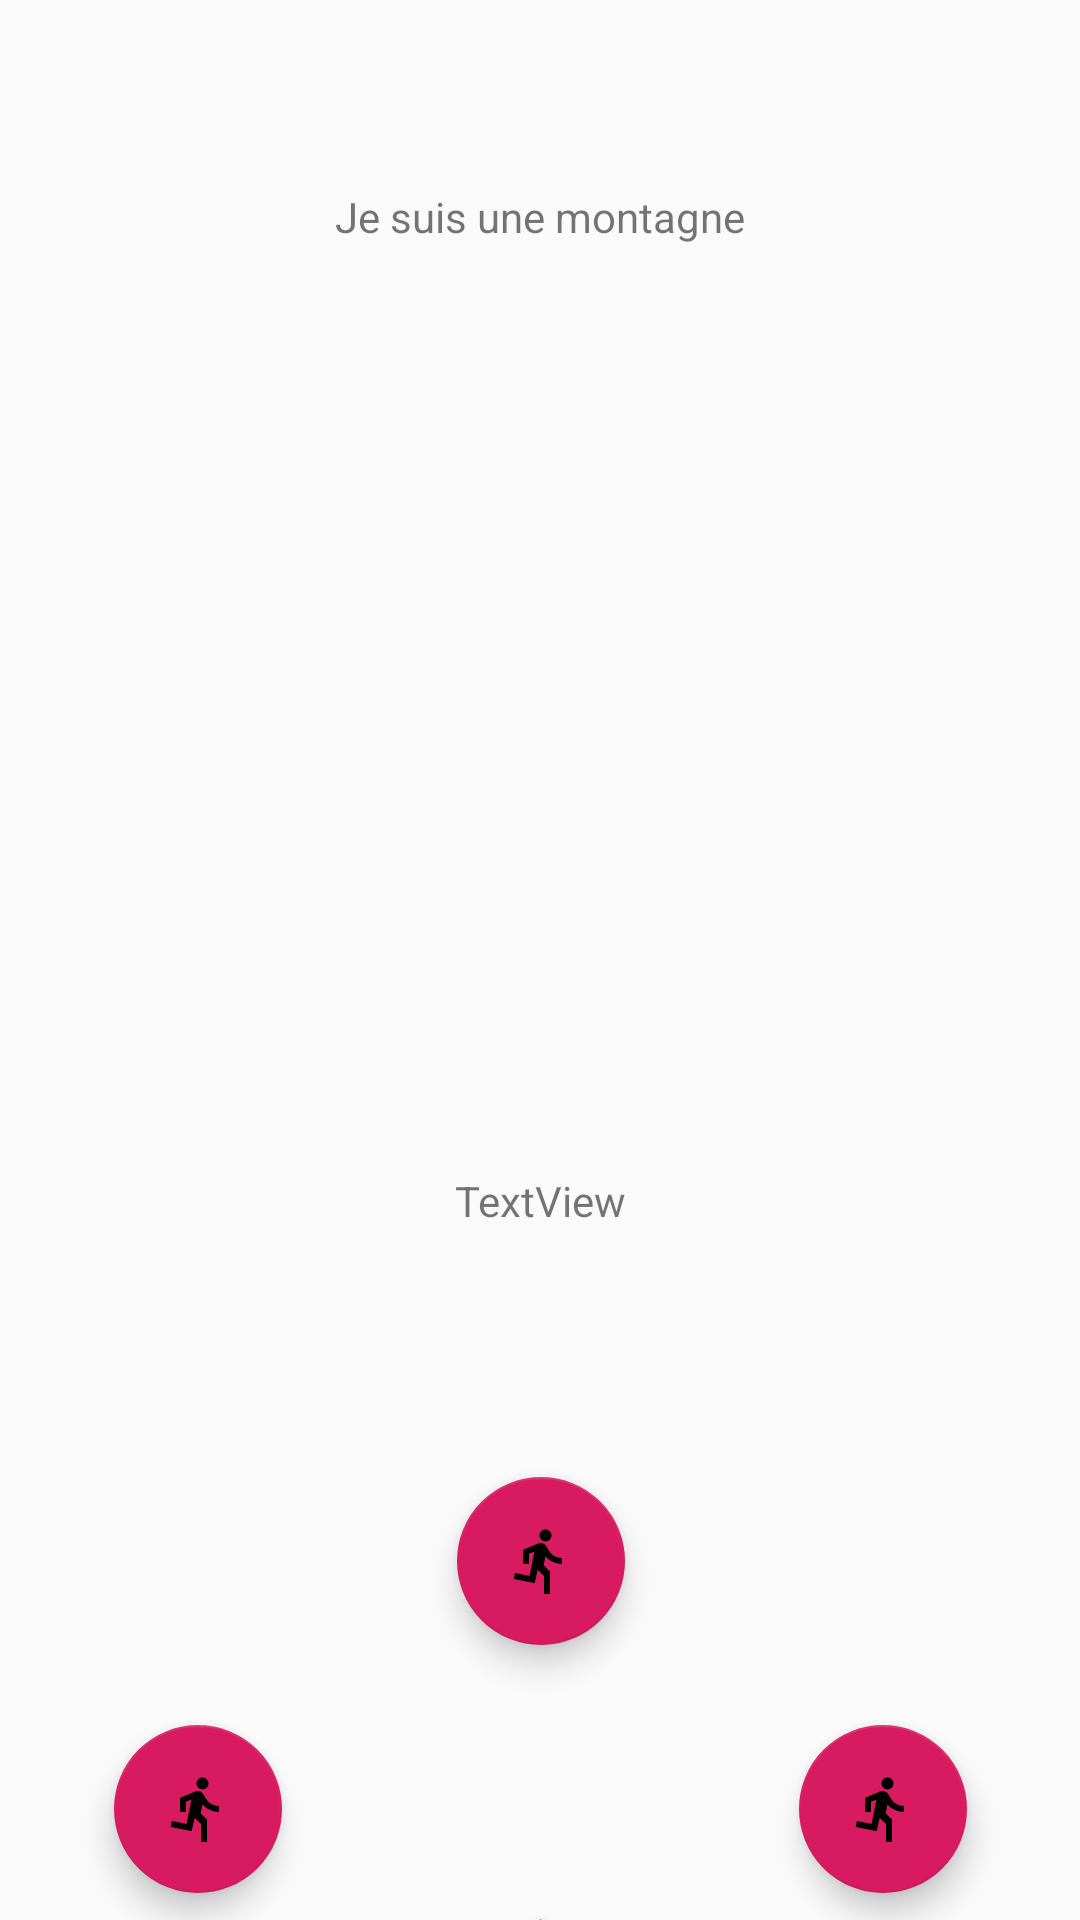

Where to tap for icons on this 1080 x 1920 app screen, as (x=x, y=y):
directions run: (x=541, y=1561), (x=198, y=1809), (x=883, y=1809)
